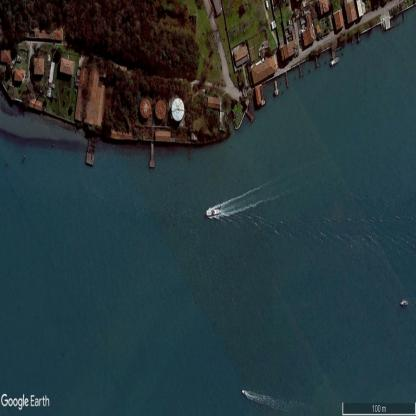ship: (330, 55, 340, 68), (206, 209, 220, 216), (400, 300, 408, 306), (242, 390, 246, 396)
